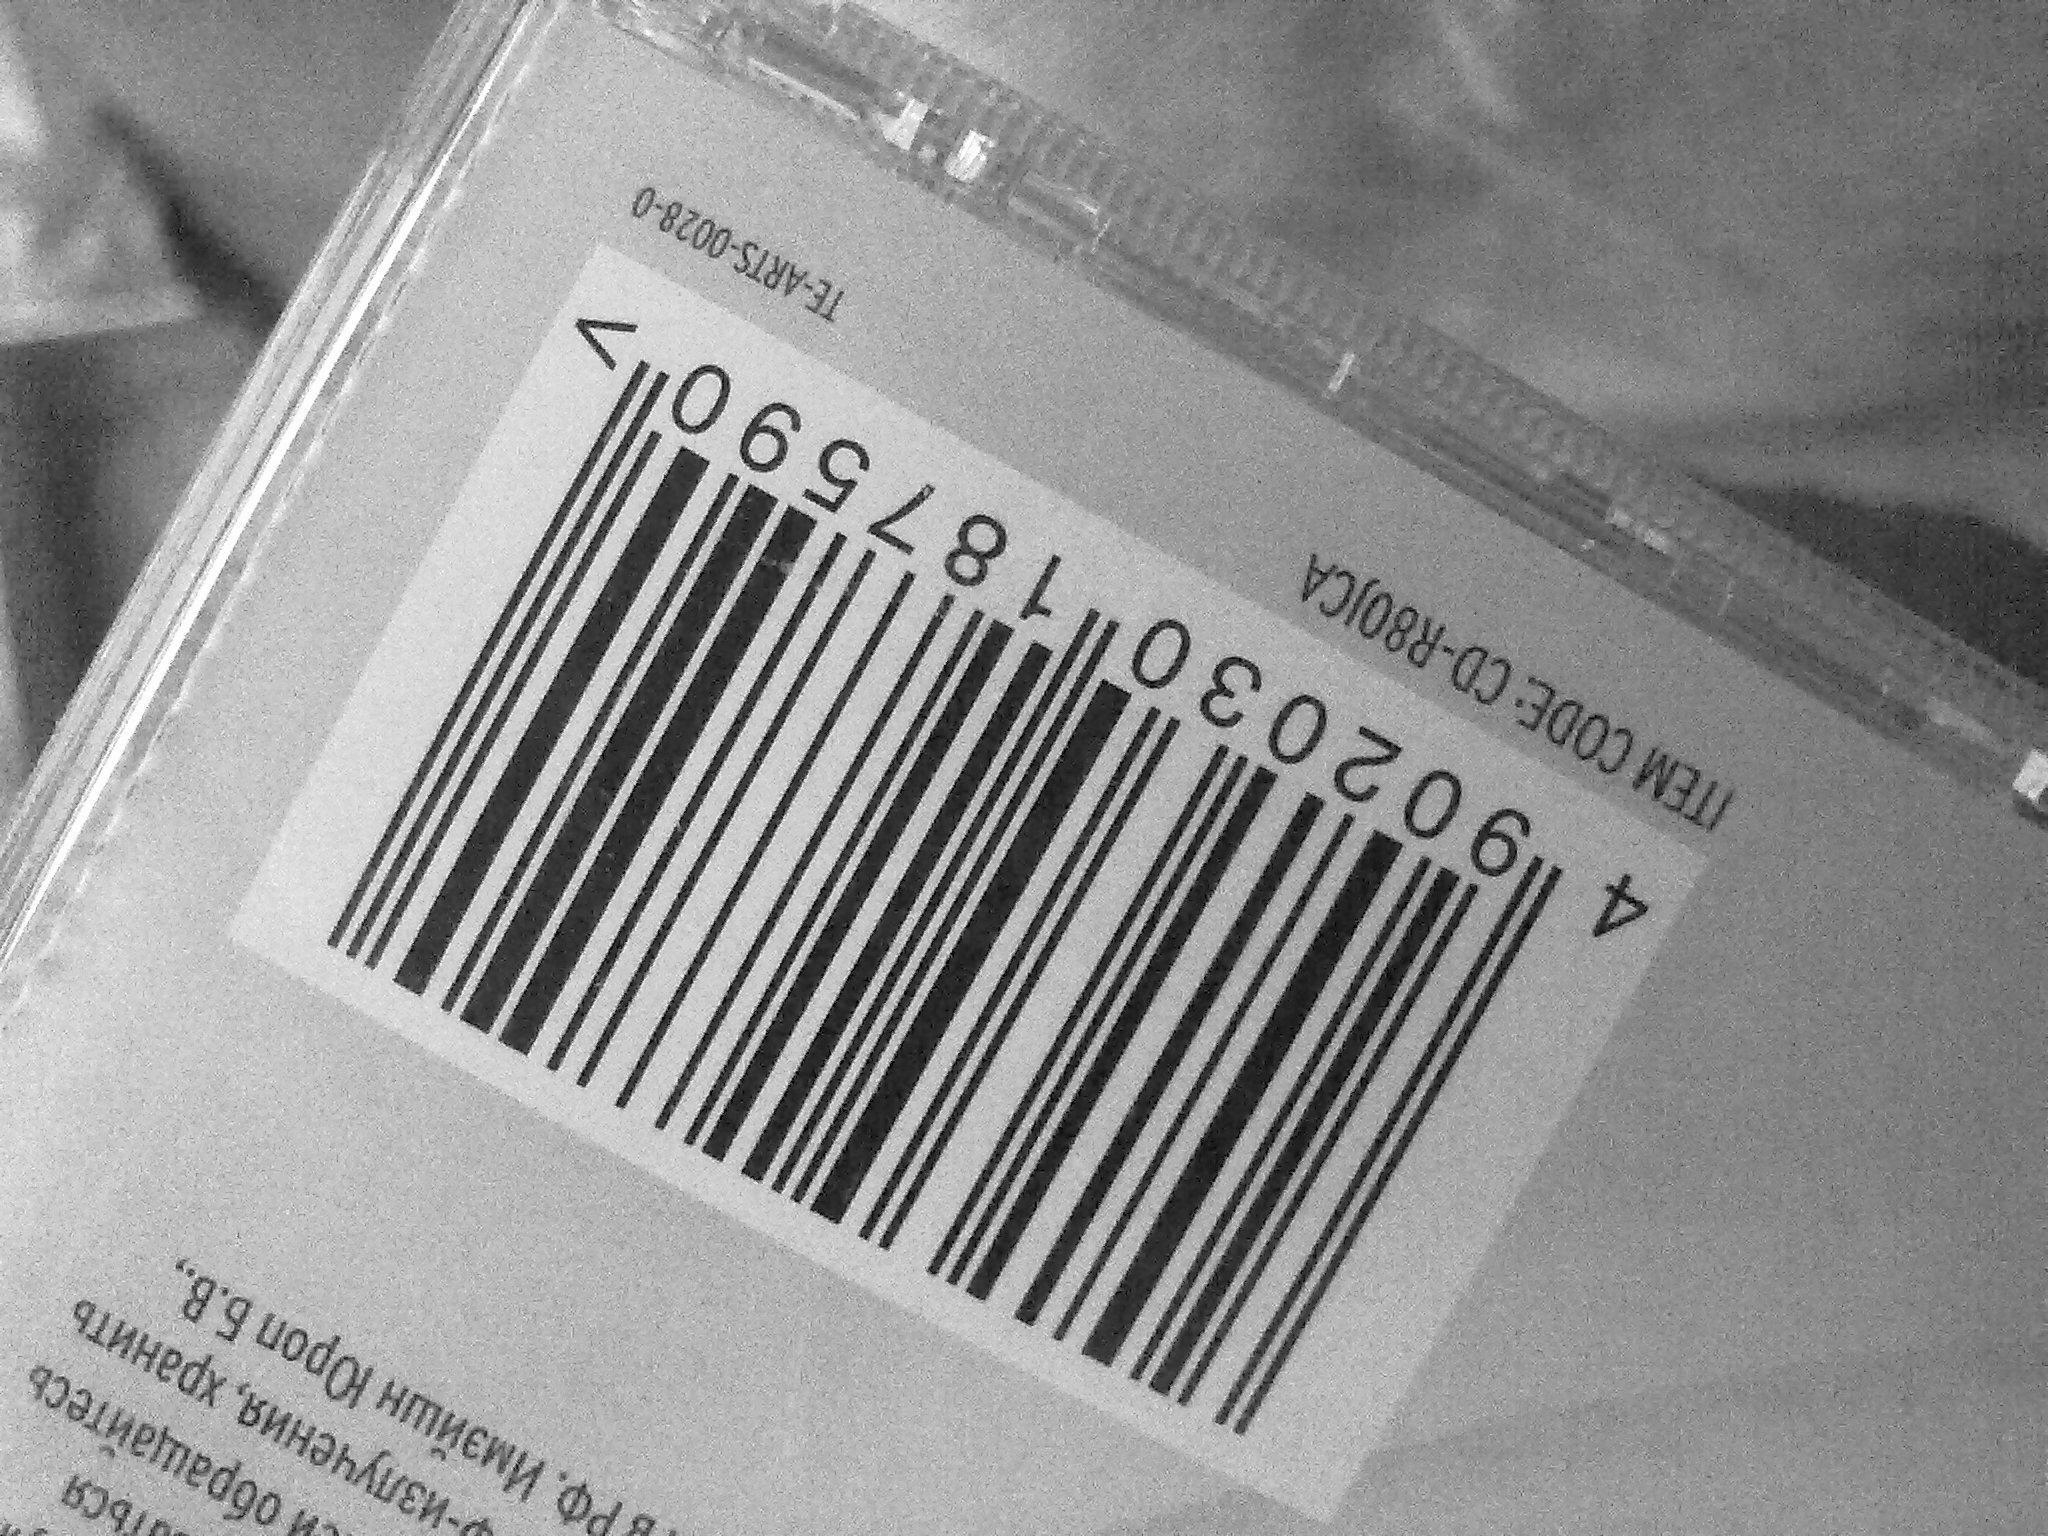Barcode: (333, 228, 1685, 1469)
